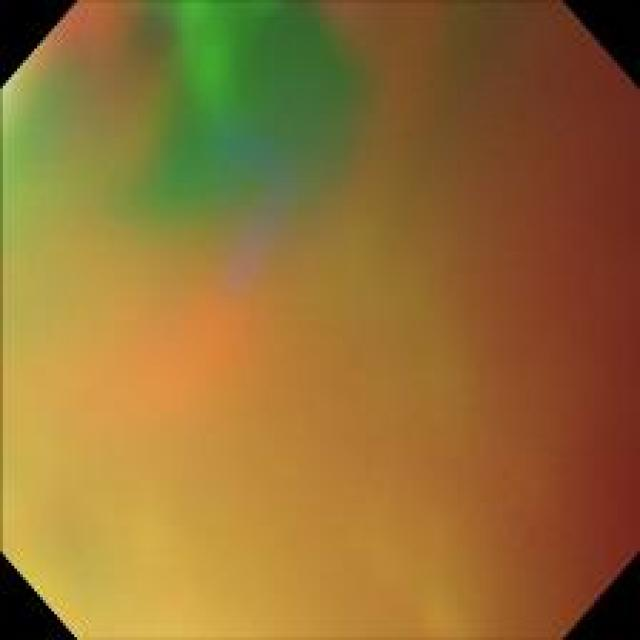color misalignment: (10, 11, 630, 630), (119, 4, 390, 276)
